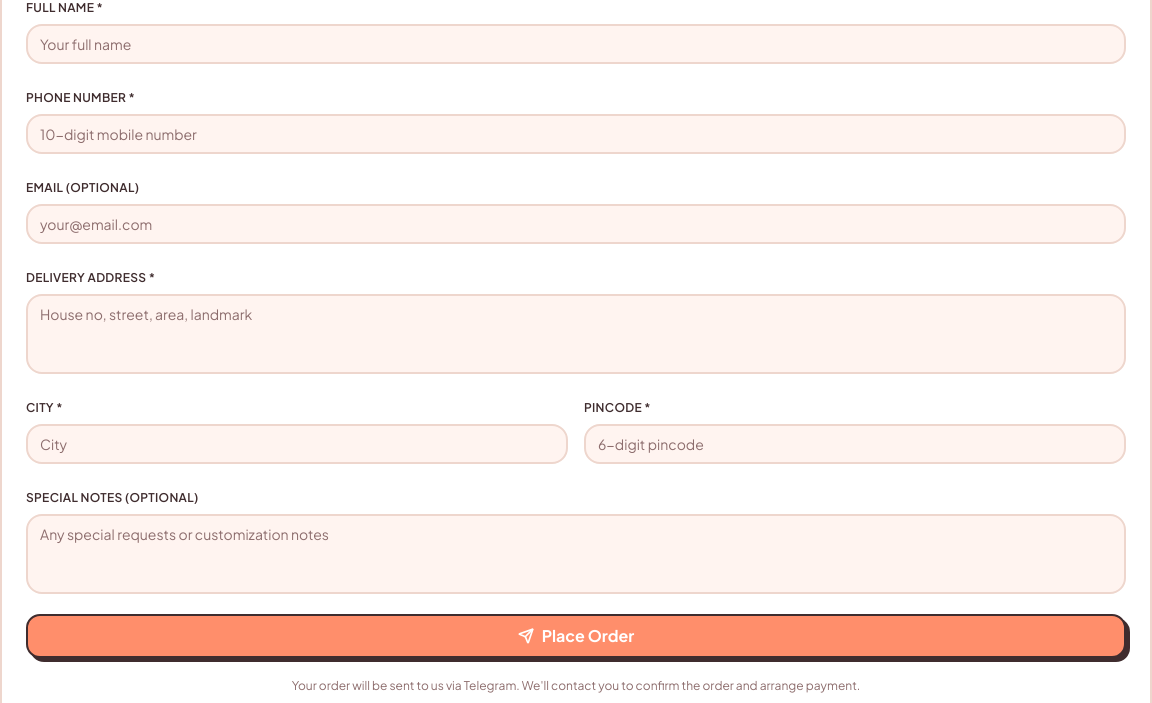
Scenario: OrderForm › shows validation errors for empty required fields
The image size is (1152, 703).
(page scrolled)
Click the button "Place Order". click: (576, 636)
box: [26,614,1126,658]
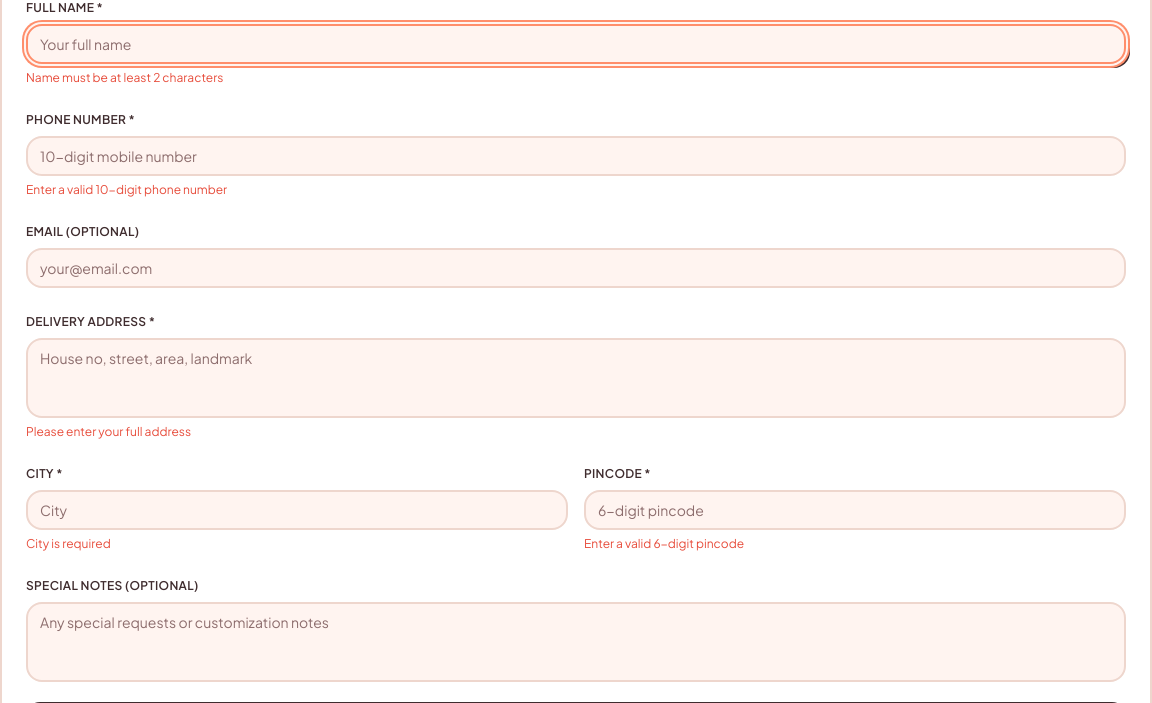
Expected: the text "Name must be at least 2 characters" is shown, [26,70,223,85]
